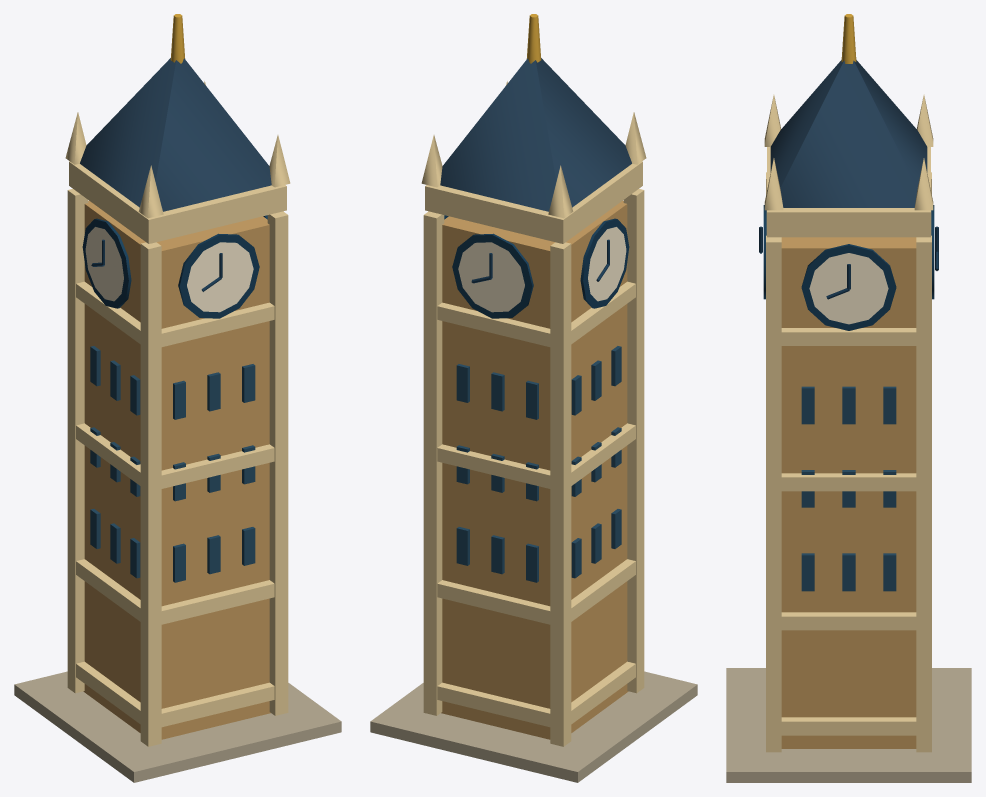
File: elizabeth-tower.glb
3 views of the same model, side by side, from view 1: azimuth 30°, elevation 25°; view 2: azimuth 150°, elevation 25°; view 3: azimuth 270°, elevation 25° (orthographic). The views are drawn at different scales.
Parts seen in each view (by area): view 1: body_C8B48A, body_E3D2AC, roof_4D5D56, base_B8B49D, detail, clock_F1E6CC, clock_43514C, roof_E3D2AC, roof_AF9660; view 2: body_C8B48A, body_E3D2AC, roof_4D5D56, base_B8B49D, detail, clock_F1E6CC, clock_43514C, roof_E3D2AC, roof_AF9660; view 3: body_C8B48A, body_E3D2AC, roof_4D5D56, base_B8B49D, detail, clock_F1E6CC, clock_43514C, roof_E3D2AC, roof_AF9660, clock_434A42.
Part boxes in pixels (box(x1,y1,x2,y2)): body_C8B48A: box(83, 200, 270, 739); body_E3D2AC: box(67, 161, 288, 746); roof_4D5D56: box(80, 58, 271, 211); base_B8B49D: box(14, 671, 341, 782); detail: box(90, 346, 255, 582); clock_F1E6CC: box(85, 227, 253, 312); clock_43514C: box(82, 215, 267, 318); roof_E3D2AC: box(65, 81, 290, 218); roof_AF9660: box(170, 14, 185, 63); body_C8B48A: box(441, 200, 628, 739); body_E3D2AC: box(423, 161, 644, 746); roof_4D5D56: box(440, 58, 631, 211); base_B8B49D: box(370, 671, 697, 782); detail: box(456, 346, 621, 582); clock_F1E6CC: box(458, 227, 626, 312); clock_43514C: box(444, 215, 629, 318); roof_E3D2AC: box(421, 81, 646, 218); roof_AF9660: box(526, 14, 541, 63); body_C8B48A: box(781, 237, 916, 748); body_E3D2AC: box(766, 147, 931, 752); roof_4D5D56: box(770, 60, 927, 207); base_B8B49D: box(726, 668, 971, 782); detail: box(801, 386, 896, 591); clock_F1E6CC: box(809, 253, 888, 324); clock_43514C: box(763, 205, 934, 330); roof_E3D2AC: box(764, 94, 933, 210); roof_AF9660: box(841, 14, 856, 63); clock_434A42: box(759, 226, 938, 299).
Size of the model in its own units: 1 by 3.22 by 1.
